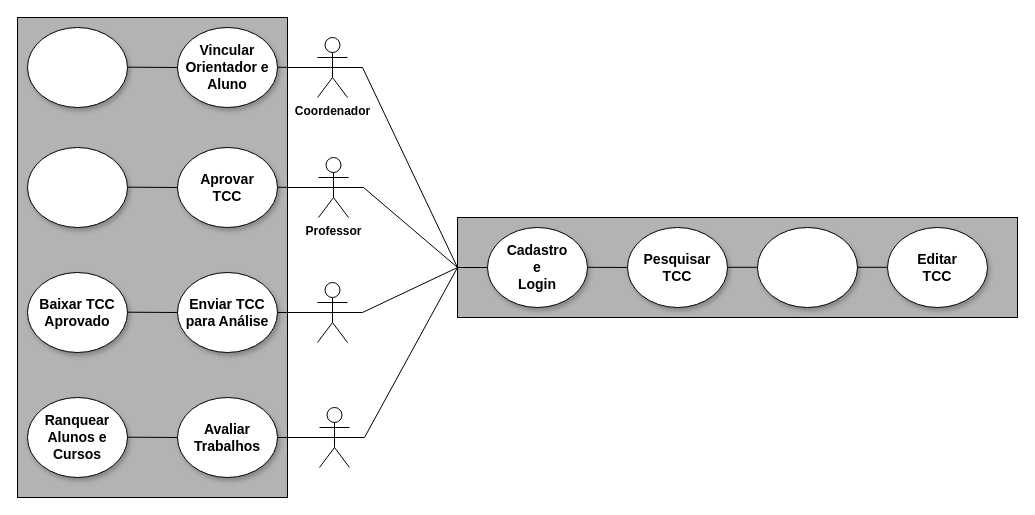
The diagram is 1035 pixels wide and 515 high, and some of its shapes have lost their labels. The centre of each missing label's shape, as x and y in pixels:
Corretor: the point at 334,437
Permissão para ser Orientador: the point at 78,68
Status da Orientação: the point at 78,188
Usuário: the point at 332,312
Visualizar TCC: the point at 808,268
